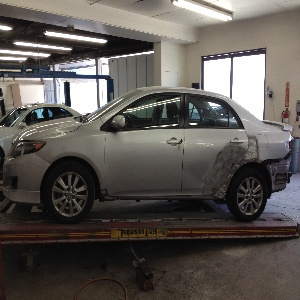door: (180, 134, 236, 201)
